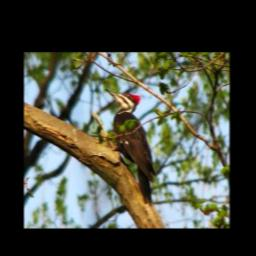Woodpecker: (102, 86, 158, 207)
